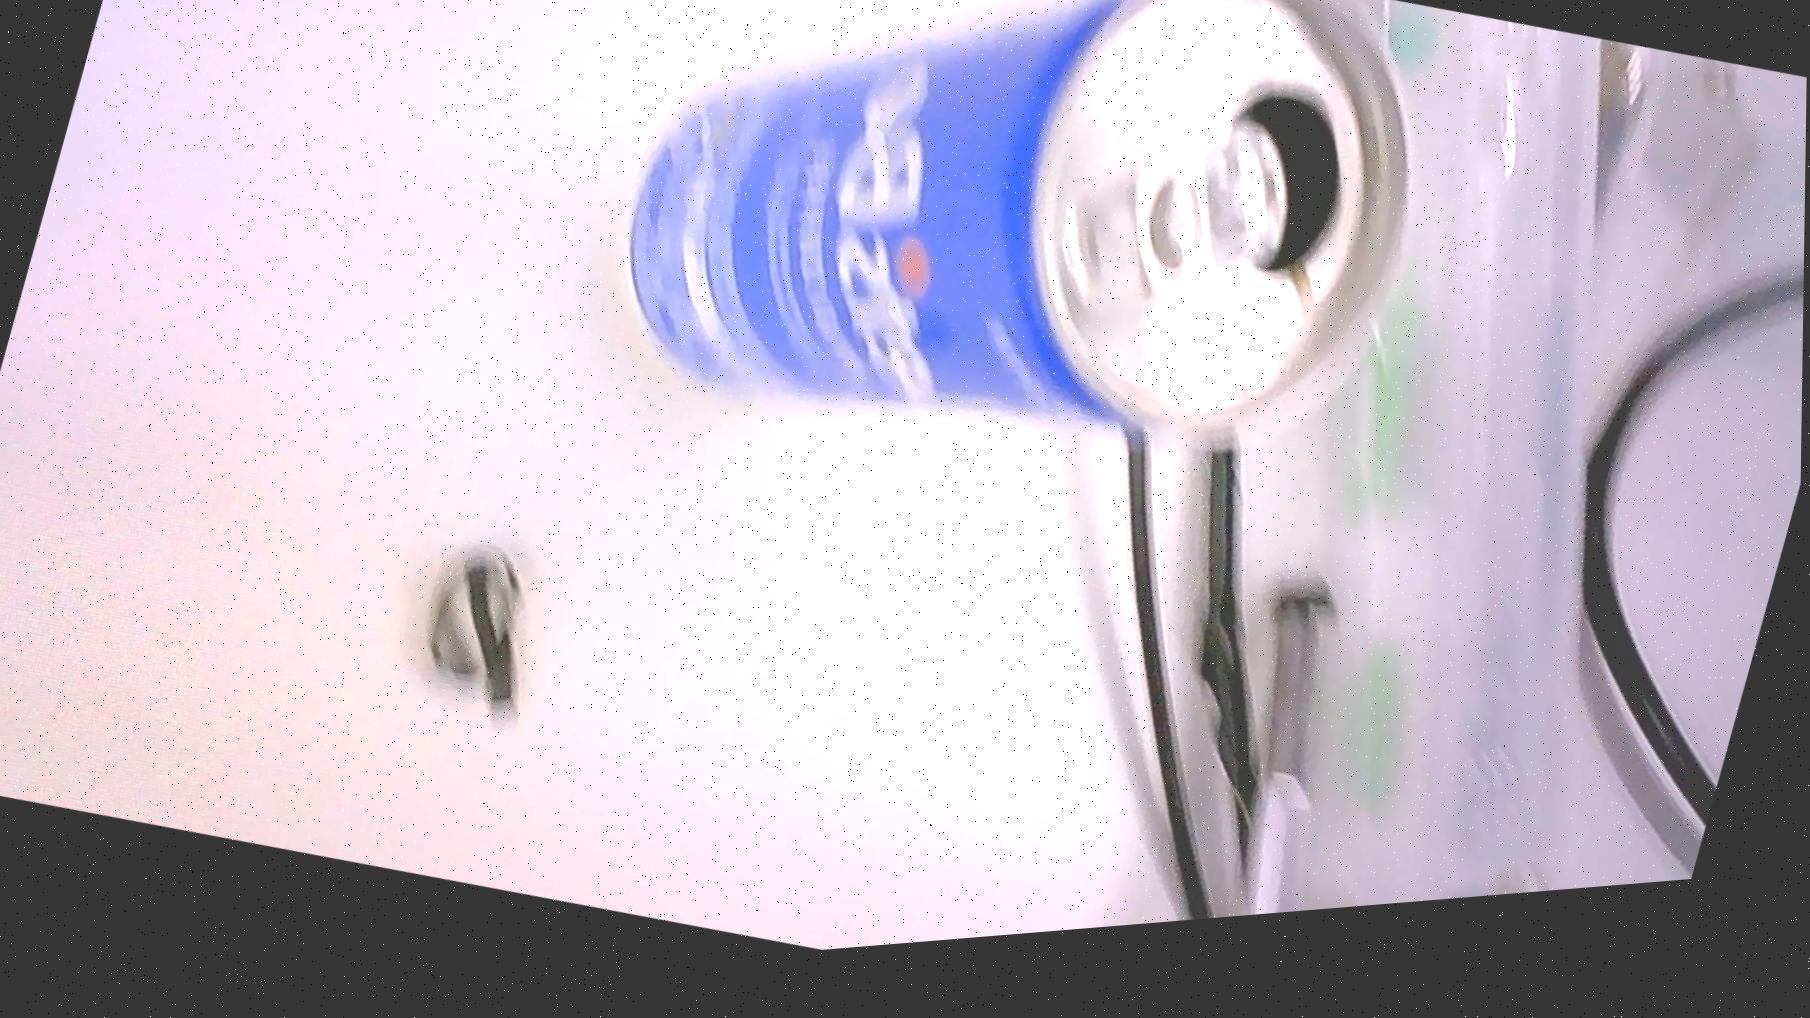letsbe: (583, 0, 1469, 580)
